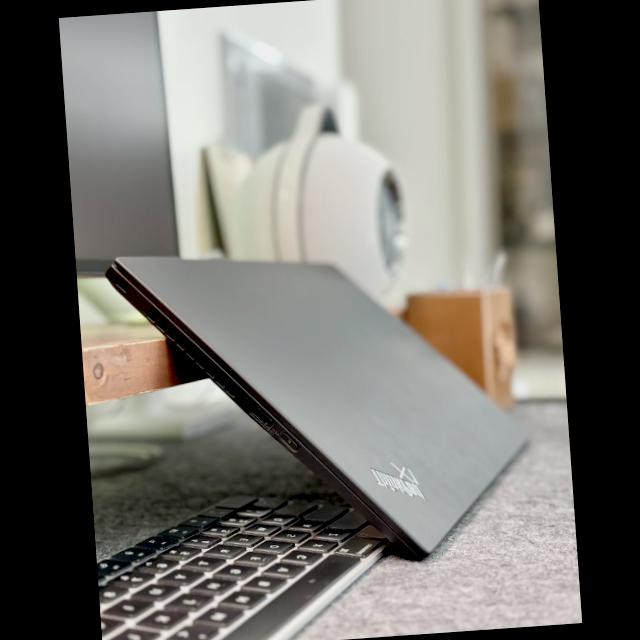laptop: (107, 256, 525, 559)
